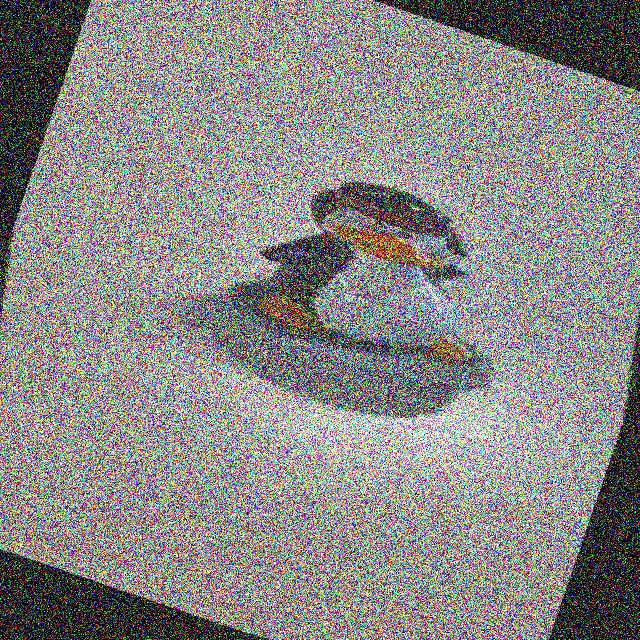Penguin: (151, 116, 569, 432)
